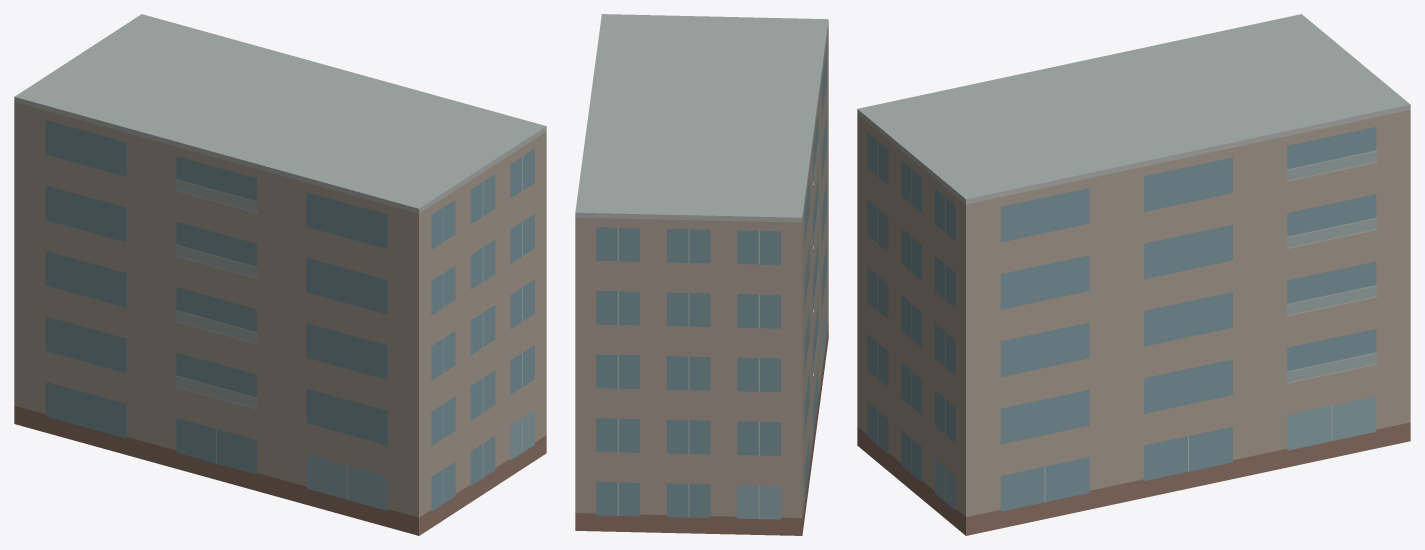
The model's file is survey-upis-32831521.glb.
3 renders of one model, left to right at view 1: azimuth 30°, elevation 25°; view 2: azimuth 150°, elevation 25°; view 3: azimuth 270°, elevation 25°, orthographic. The views are drawn at different scales.
Visible parts, largest first — view 1: survey-upis-32831521.tmp; view 2: survey-upis-32831521.tmp; view 3: survey-upis-32831521.tmp.
Part boxes in pixels (<box>): survey-upis-32831521.tmp: <box>14,14,546,535</box>; survey-upis-32831521.tmp: <box>575,14,828,535</box>; survey-upis-32831521.tmp: <box>857,14,1410,535</box>.
Size of the model in its own units: 18.67 by 15.8 by 23.56.
